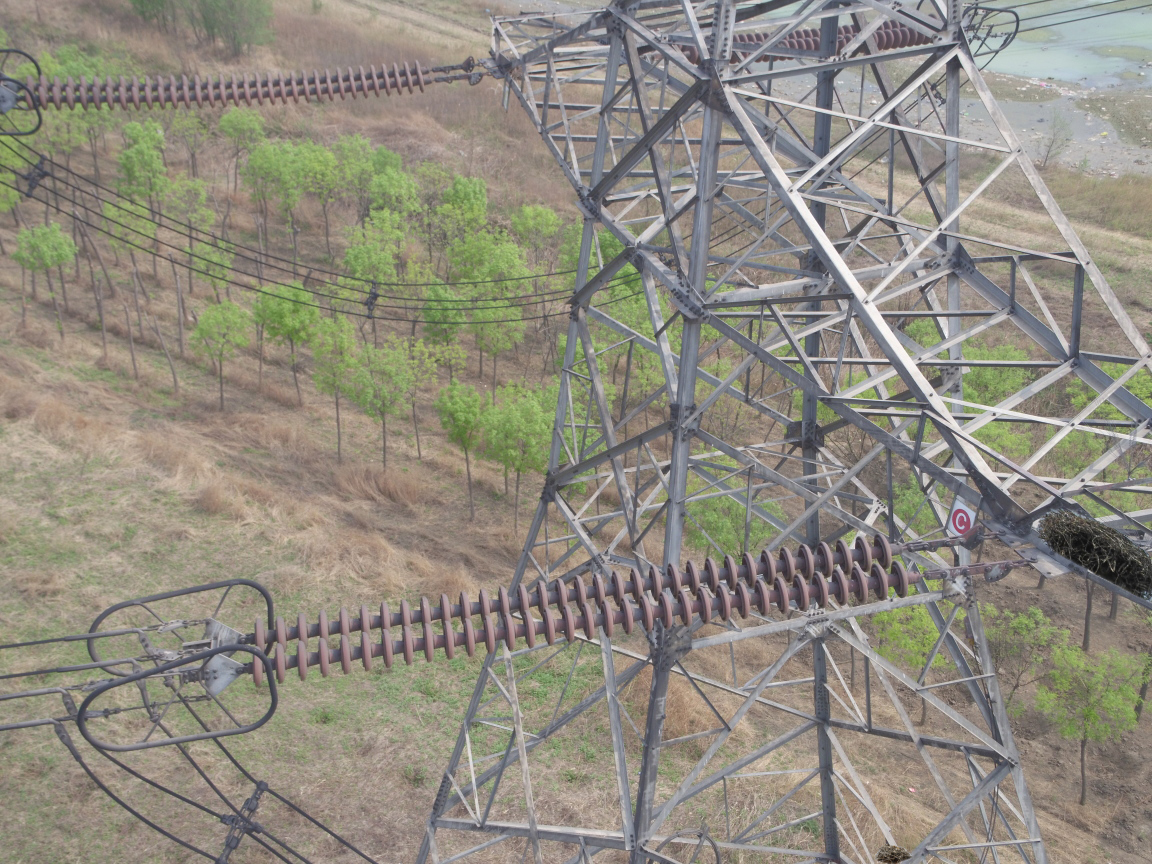nest: (1034, 496, 1152, 609), (870, 837, 914, 864)
